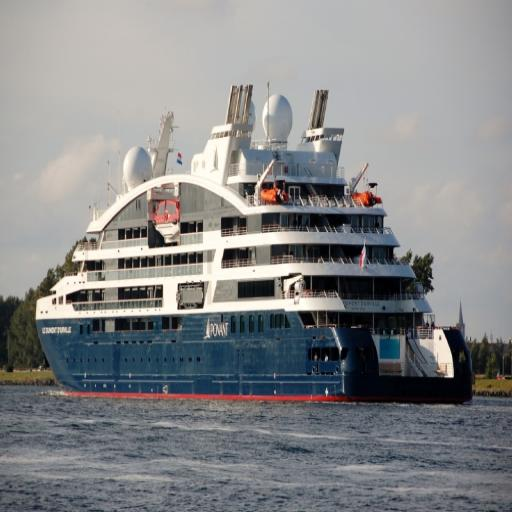cruises: (33, 79, 478, 410)
